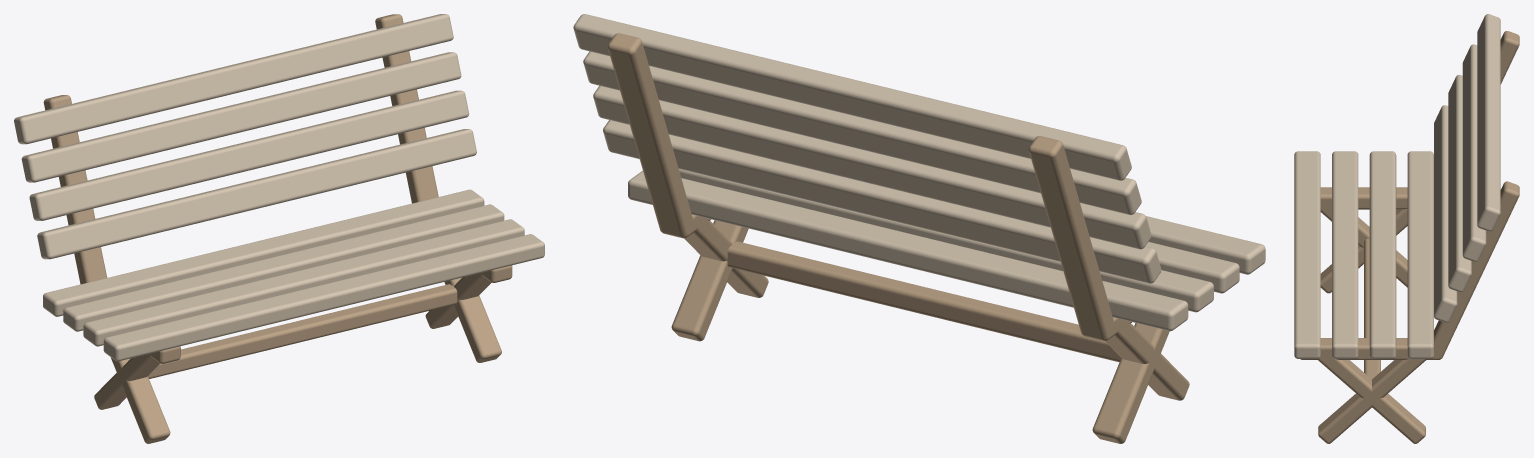
File: bench_1.glb
The picture shows the model from 3 angles, left to right: view 1: azimuth 30°, elevation 25°; view 2: azimuth 150°, elevation 25°; view 3: azimuth 270°, elevation 25°; orthographic projection. The views are drawn at different scales.
Parts seen in each view (by area): view 1: Mesh_Mesh_head_geo.001_lambert2SG.001; view 2: Mesh_Mesh_head_geo.001_lambert2SG.001; view 3: Mesh_Mesh_head_geo.001_lambert2SG.001.
Boxes of the visible parts, bbox=[...] form: Mesh_Mesh_head_geo.001_lambert2SG.001: bbox=[14, 14, 544, 443]; Mesh_Mesh_head_geo.001_lambert2SG.001: bbox=[573, 14, 1265, 443]; Mesh_Mesh_head_geo.001_lambert2SG.001: bbox=[1294, 14, 1519, 443].
Bounding box in the file's own units: 25 × 15 × 12.
